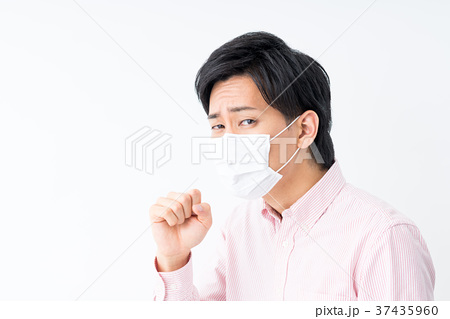mask: (206, 133, 290, 203)
